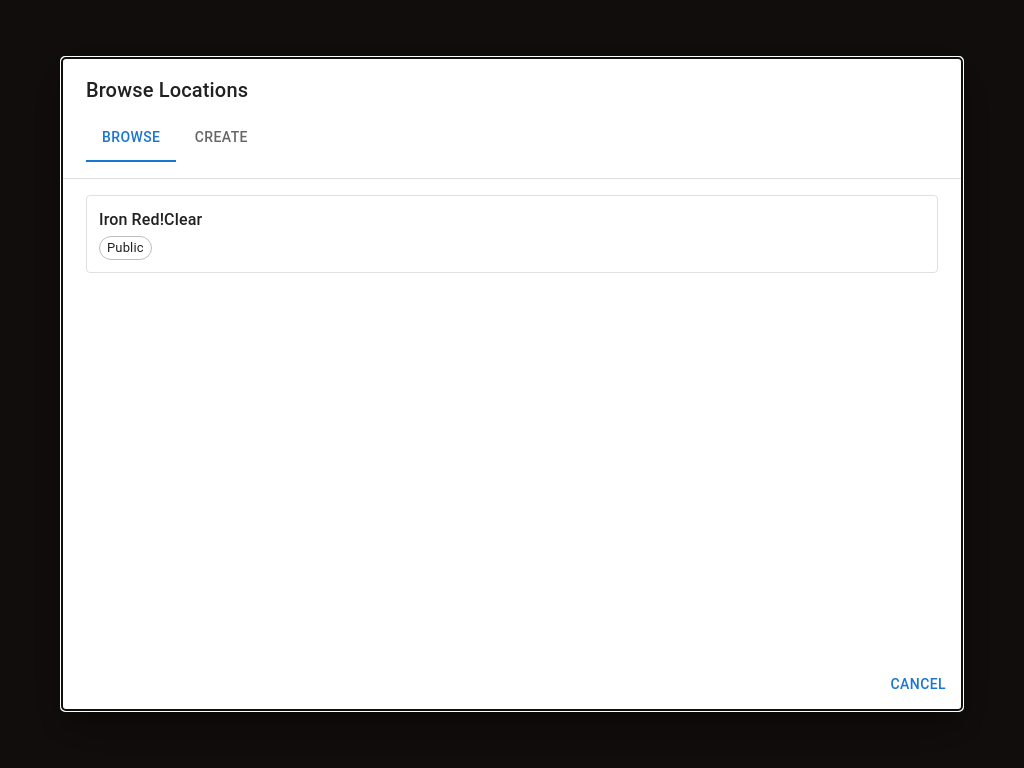
Test: GlobalEntryDialog › shows an error when simple entry creation fails
Click the tab "Create".
click(221, 138)  # box [176, 114, 266, 162]
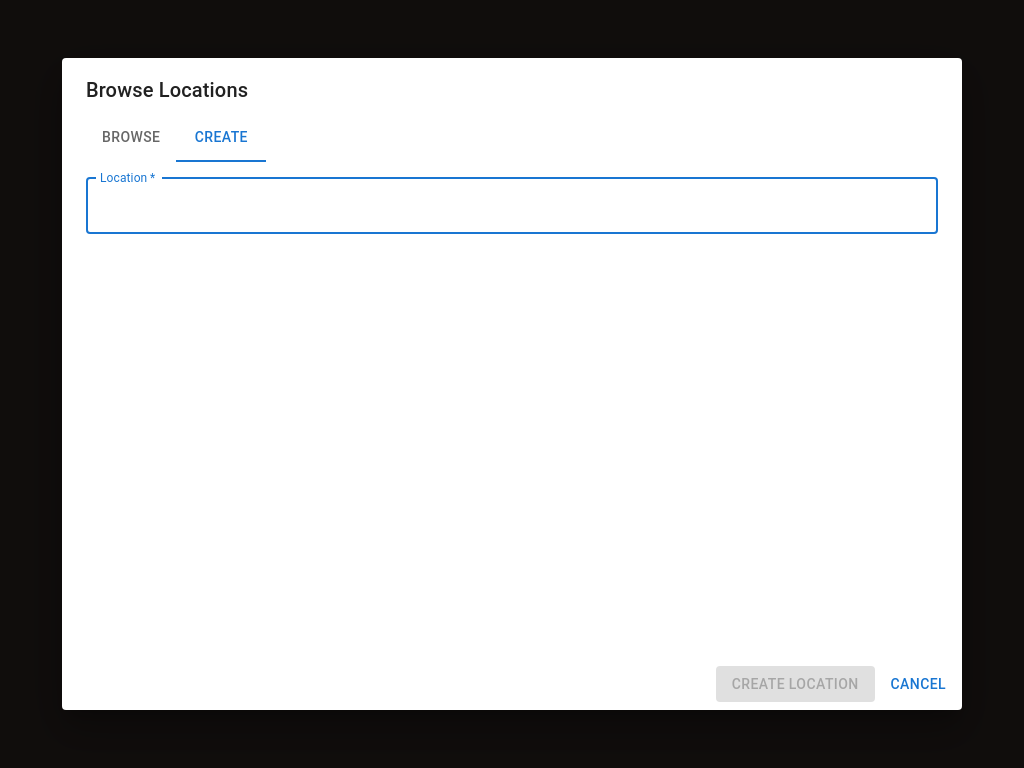
Type "Studio K" into the field labelled "Location".
click(512, 206); type("Studio K")  # box [86, 178, 938, 234]
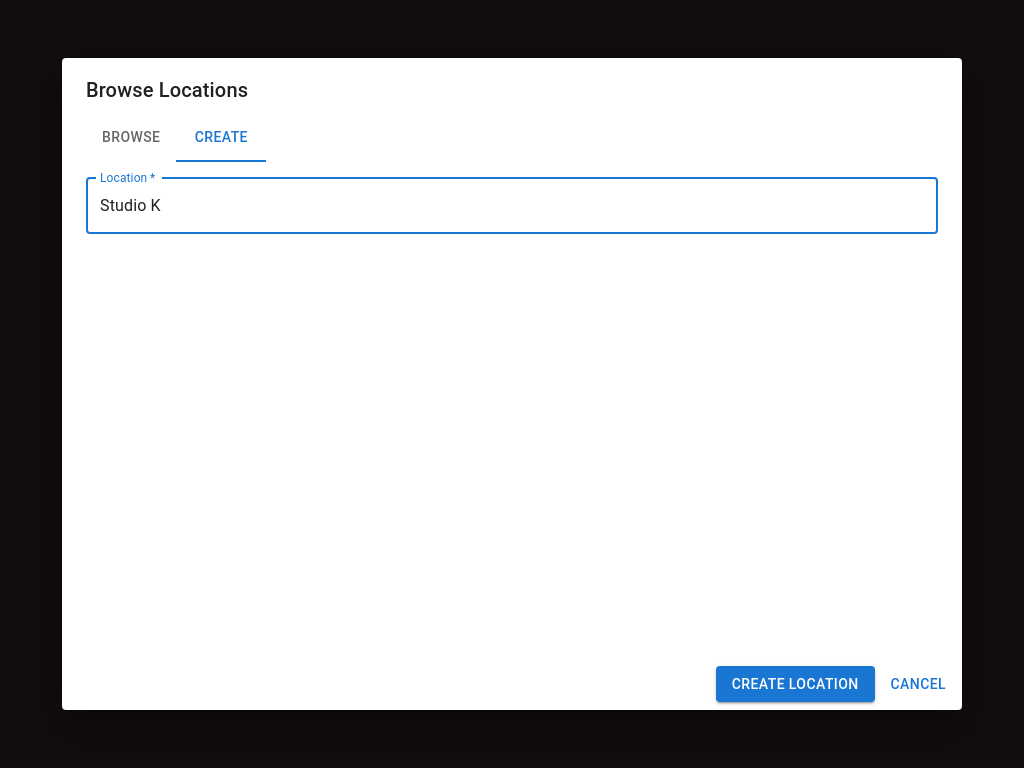
Click the button "Create Location".
click(795, 684)  # box [716, 666, 874, 702]
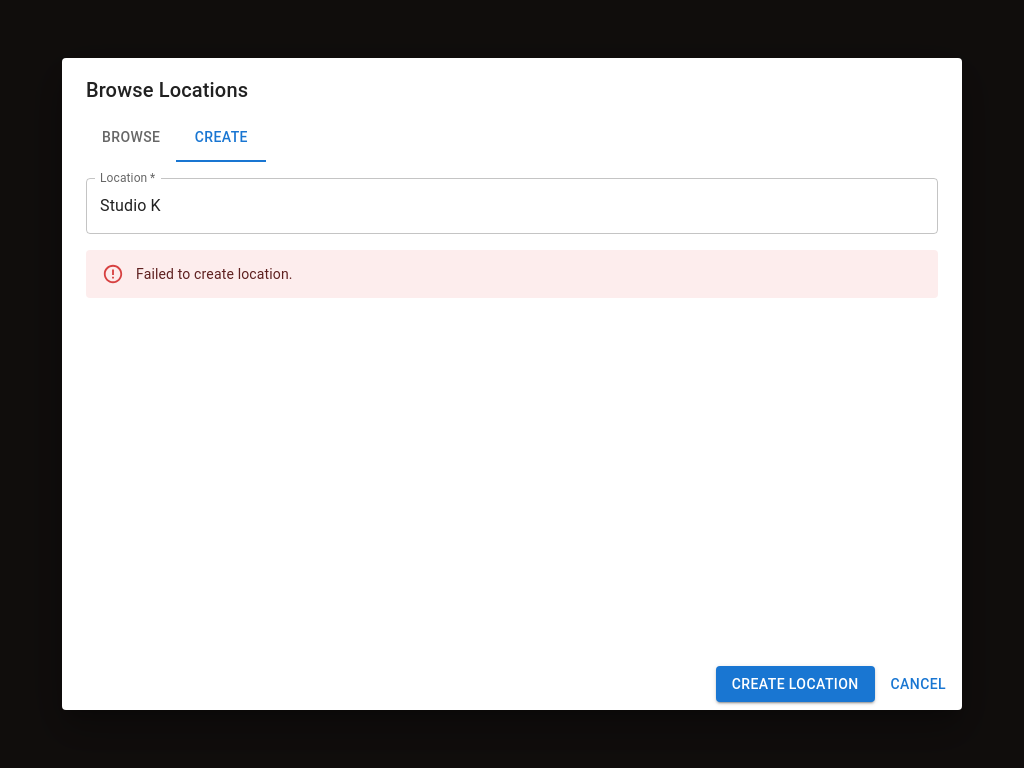
Result: the button "Create Location" is enabled at [716, 666, 874, 702]
Result: the text "Failed to create location." is shown at [136, 266, 293, 282]
